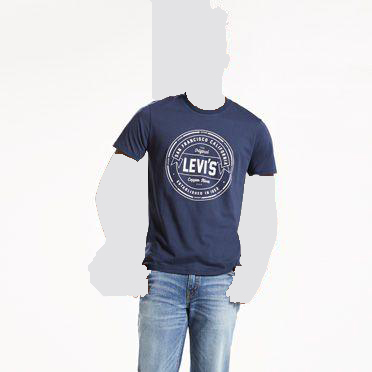teeshirt: (110, 92, 278, 273)
